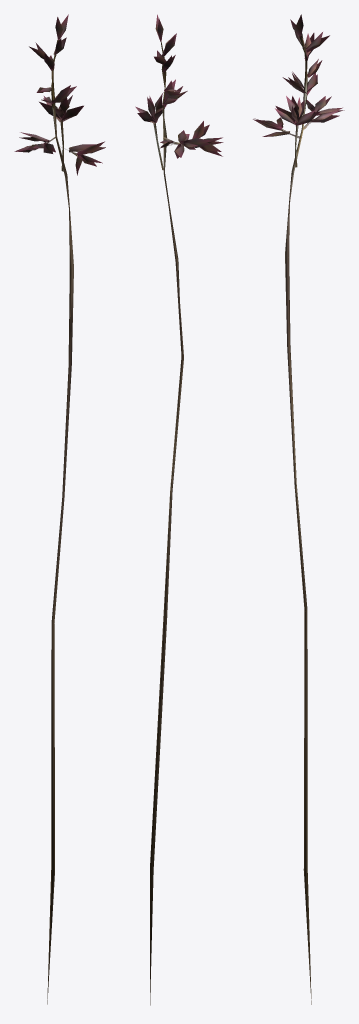
File: trees-grasses-flowering-grass_v3.glb
3 views of the same model, side by side, from view 1: azimuth 90°, elevation 25°; view 2: azimuth 150°, elevation 25°; view 3: azimuth 270°, elevation 25° (orthographic).
Parts seen in each view (by area): view 1: Flowering Grass_v3; view 2: Flowering Grass_v3; view 3: Flowering Grass_v3.
Boxes of the visible parts, x1,y1,x2,y2 form: Flowering Grass_v3: (14,14,105,1004); Flowering Grass_v3: (135,14,223,1005); Flowering Grass_v3: (253,14,344,1004).
Bounding box in the file's own units: 0.061 × 0.8 × 0.0673.
